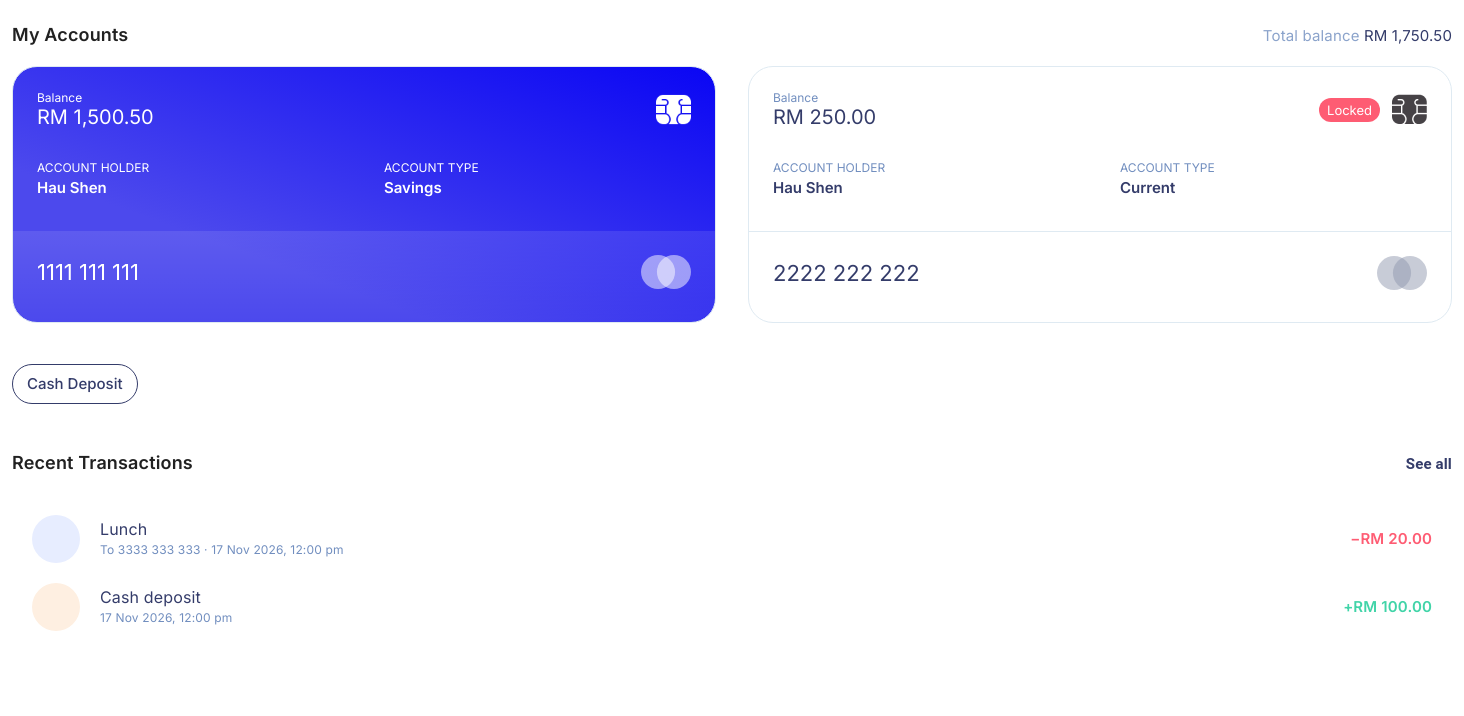
Scenario: dashboard › lists the latest 5 transactions of the first account, then of the card the user picks
This screenshot has width=1464, height=716.
Click the button with aria-label "current account 2222222222" at [1100, 195], box [749,67,1451,322]
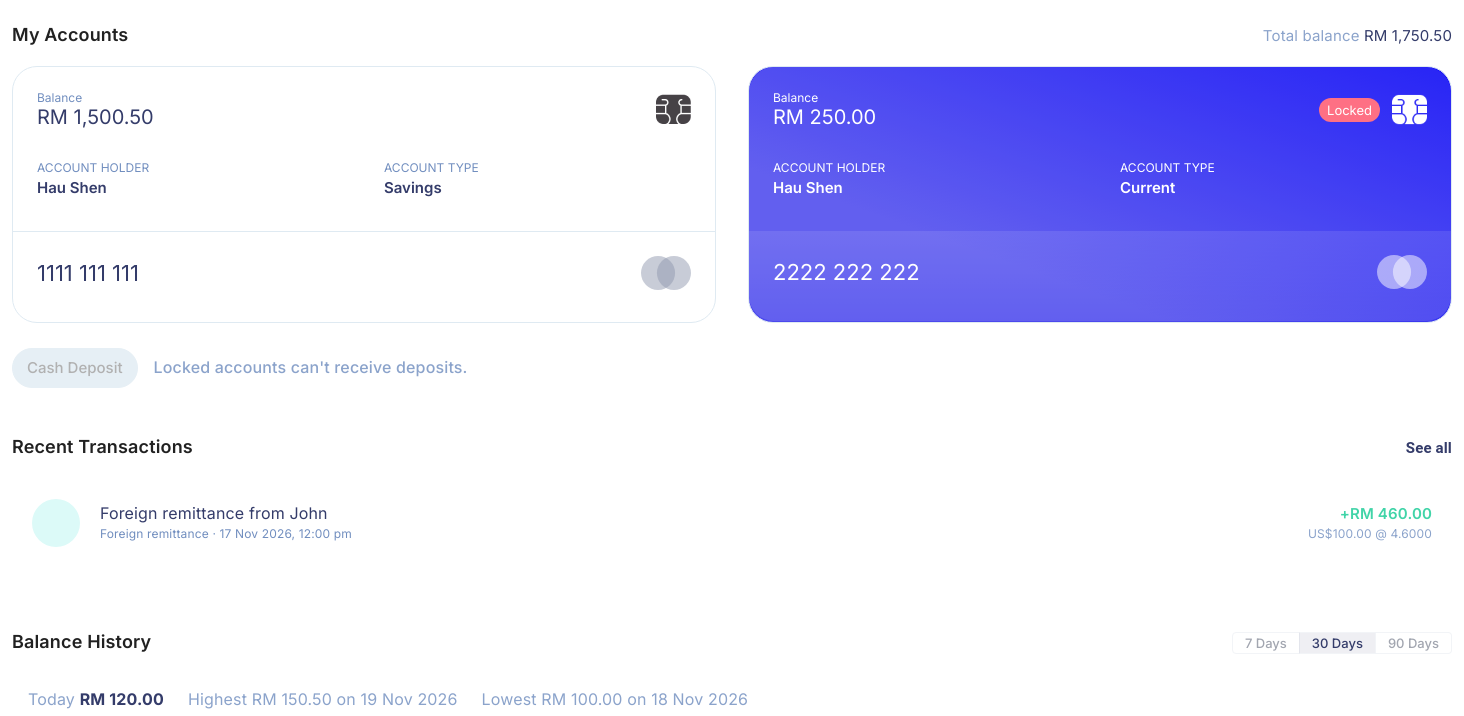
Expected: the list item "Foreign remittance from John" shows "+RM 460.00", [1340,504,1432,523]
Expected: the list item "Foreign remittance from John" shows "US$100.00 @ 4.6000", [32,499,1432,547]
Expected: the text "Lunch" is gone
